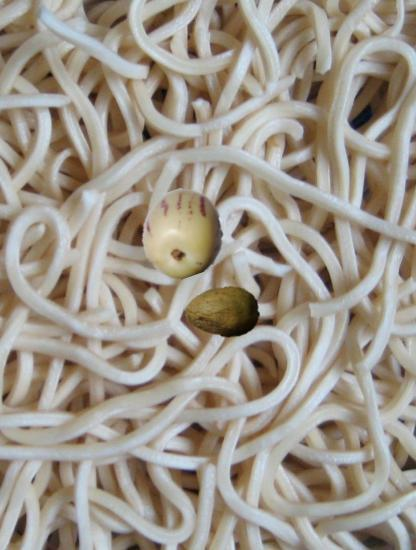Papaya: (184, 273, 261, 350)
Pepino: (138, 190, 226, 278)
